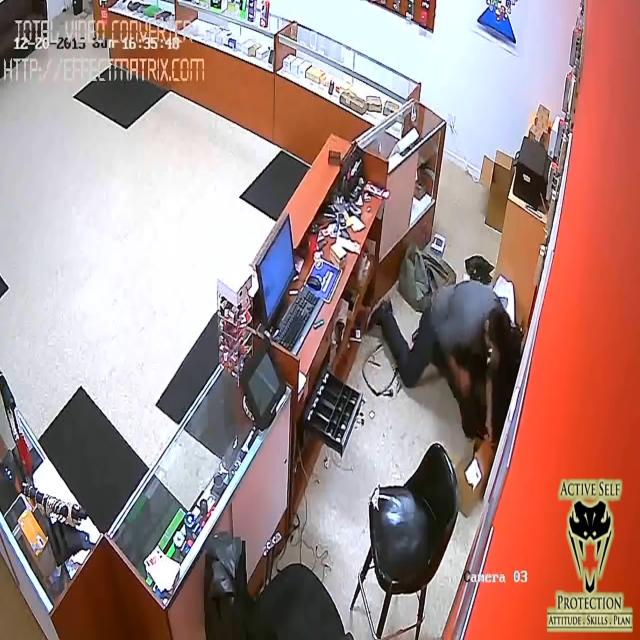fight: (363, 274, 512, 456)
